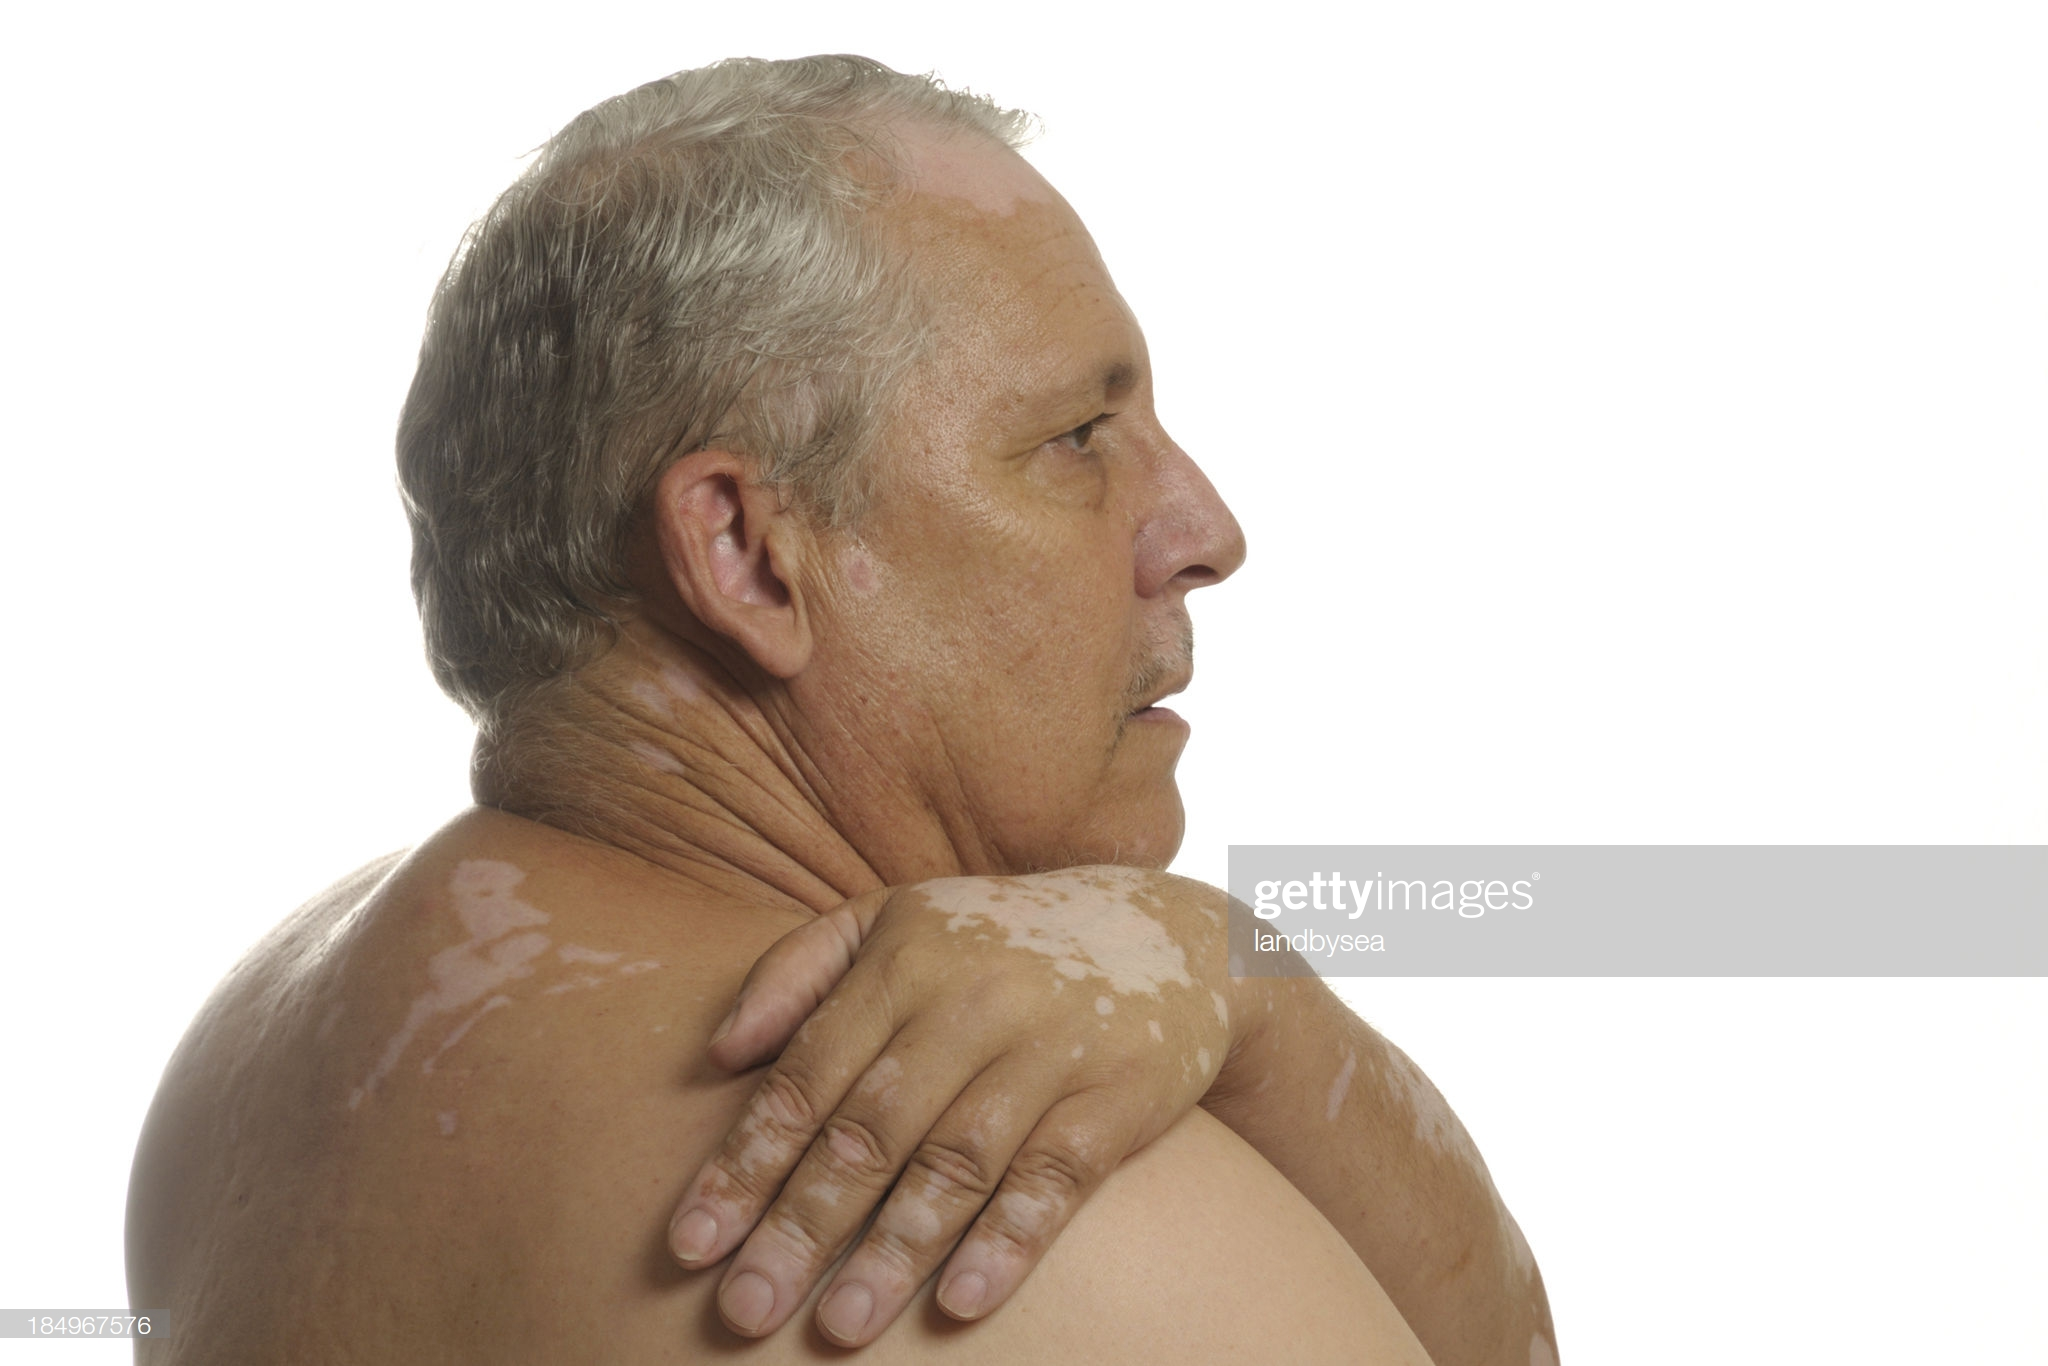vitiligo: (773, 864, 1169, 1302)
